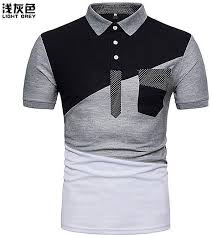C_polo shirt: (24, 6, 209, 230)
